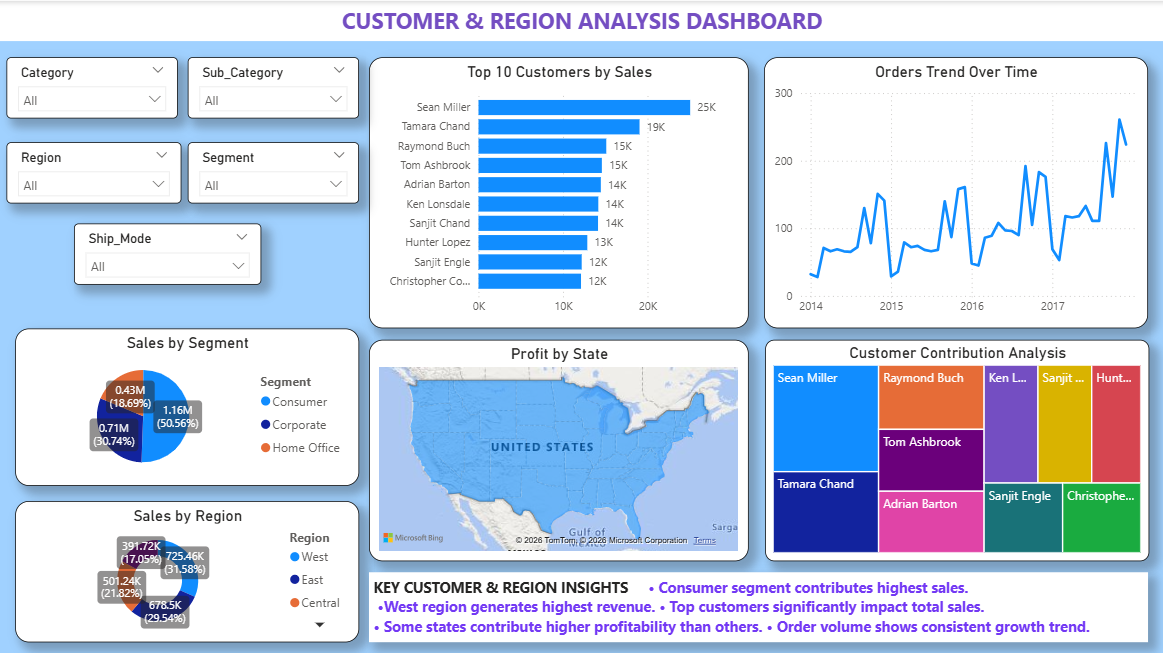

This screenshot's page, from the dashboard's own definition file:
{"tool":"powerbi","page":{"name":"Customer & Region Analysis","canvas":[1280,720],"ordinal":2},"visuals":[{"type":"textbox","box":[0,0,1280.3,43.9],"z":0},{"type":"clusteredBarChart","title":"Top 10 Customers by Sales","fields":{"Category":["Superstore_Cleaned.Customer_Name"],"Y":["Superstore_Cleaned.Total Sales"]},"box":[406.2,61.7,417.2,297.8],"z":1000},{"type":"donutChart","title":" Sales by Region","fields":{"Category":["Superstore_Cleaned.Region"],"Y":["Superstore_Cleaned.Total Sales"]},"box":[17.8,548.9,377.4,155.1],"z":2000},{"type":"pieChart","title":" Sales by Segment","fields":{"Category":["Superstore_Cleaned.Segment"],"Y":["Superstore_Cleaned.Total Sales"]},"box":[17.8,359.5,377.4,172.9],"z":3000},{"type":"filledMap","title":"Profit by State","fields":{"Category":["Superstore_Cleaned.State"]},"box":[406.2,371.9,417.2,242.9],"z":4000},{"type":"lineChart","title":"Orders Trend Over Time ","fields":{"Y":["Superstore_Cleaned.Total Orders"],"Category":["Superstore_Cleaned.Order_Date.Variation.Date Hierarchy.Year","Superstore_Cleaned.Order_Date.Variation.Date Hierarchy.Month"]},"box":[839.8,61.7,421.3,297.8],"z":5000},{"type":"treemap","title":"Customer Contribution Analysis","fields":{"Group":["Superstore_Cleaned.Customer_Name"],"Values":["Superstore_Cleaned.Total Sales"]},"box":[841.2,371.9,421.3,242.9],"z":6000},{"type":"slicer","fields":{"Values":["Superstore_Cleaned.Category"]},"box":[8.2,61.7,188,67.2],"z":7000},{"type":"slicer","fields":{"Values":["Superstore_Cleaned.Sub_Category"]},"box":[207.2,61.7,188,67.2],"z":8000},{"type":"slicer","fields":{"Values":["Superstore_Cleaned.Region"]},"box":[8.2,155.1,192.1,67.2],"z":9000},{"type":"slicer","fields":{"Values":["Superstore_Cleaned.Segment"]},"box":[207.2,155.1,188,67.2],"z":10000},{"type":"slicer","fields":{"Values":["Superstore_Cleaned.Ship_Mode"]},"box":[82.3,244.3,205.8,67.2],"z":11000},{"type":"textbox","box":[406.2,627.1,854.9,76.8],"z":12000}]}

Visuals, with their boxes in screenshot pixels (x1, y1, x2, y2), scaled from the page's 1280x720 canvas onto the 1163x653 screenshot:
textbox: <bbox>0, 0, 1162, 40</bbox>
"Top 10 Customers by Sales" clusteredBarChart: <bbox>369, 56, 748, 326</bbox>
" Sales by Region" donutChart: <bbox>16, 498, 359, 638</bbox>
" Sales by Segment" pieChart: <bbox>16, 326, 359, 483</bbox>
"Profit by State" filledMap: <bbox>369, 337, 748, 558</bbox>
"Orders Trend Over Time " lineChart: <bbox>763, 56, 1146, 326</bbox>
"Customer Contribution Analysis" treemap: <bbox>764, 337, 1147, 558</bbox>
slicer - Superstore_Cleaned.Category: <bbox>7, 56, 178, 117</bbox>
slicer - Superstore_Cleaned.Sub_Category: <bbox>188, 56, 359, 117</bbox>
slicer - Superstore_Cleaned.Region: <bbox>7, 141, 182, 202</bbox>
slicer - Superstore_Cleaned.Segment: <bbox>188, 141, 359, 202</bbox>
slicer - Superstore_Cleaned.Ship_Mode: <bbox>75, 222, 262, 283</bbox>
textbox: <bbox>369, 569, 1146, 638</bbox>
